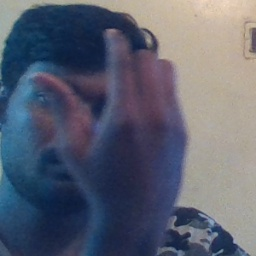U: (38, 27, 197, 203)
